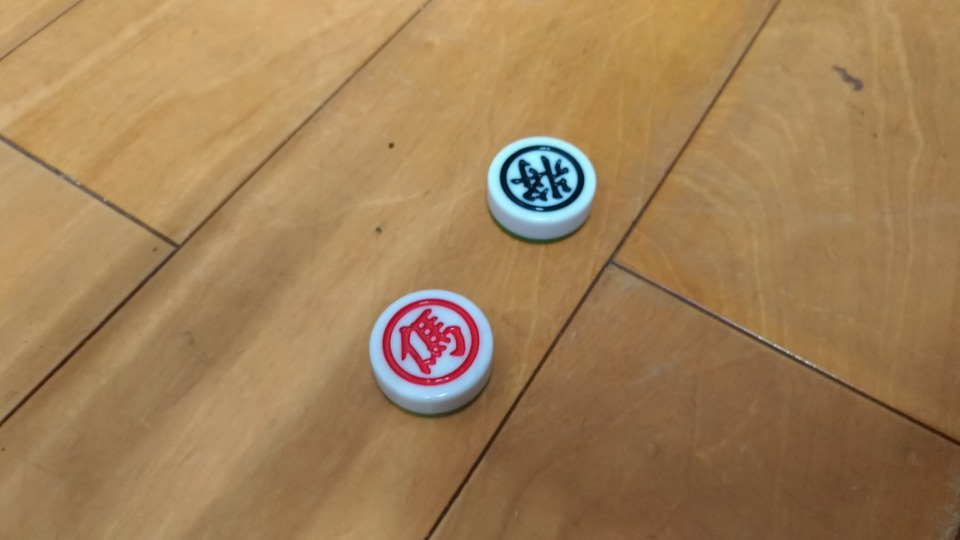b-king: (472, 119, 606, 252)
r-knight: (341, 283, 505, 411)
